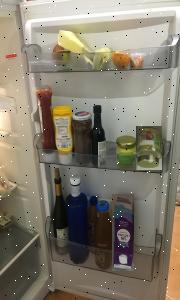Leche: (112, 194, 134, 271)
